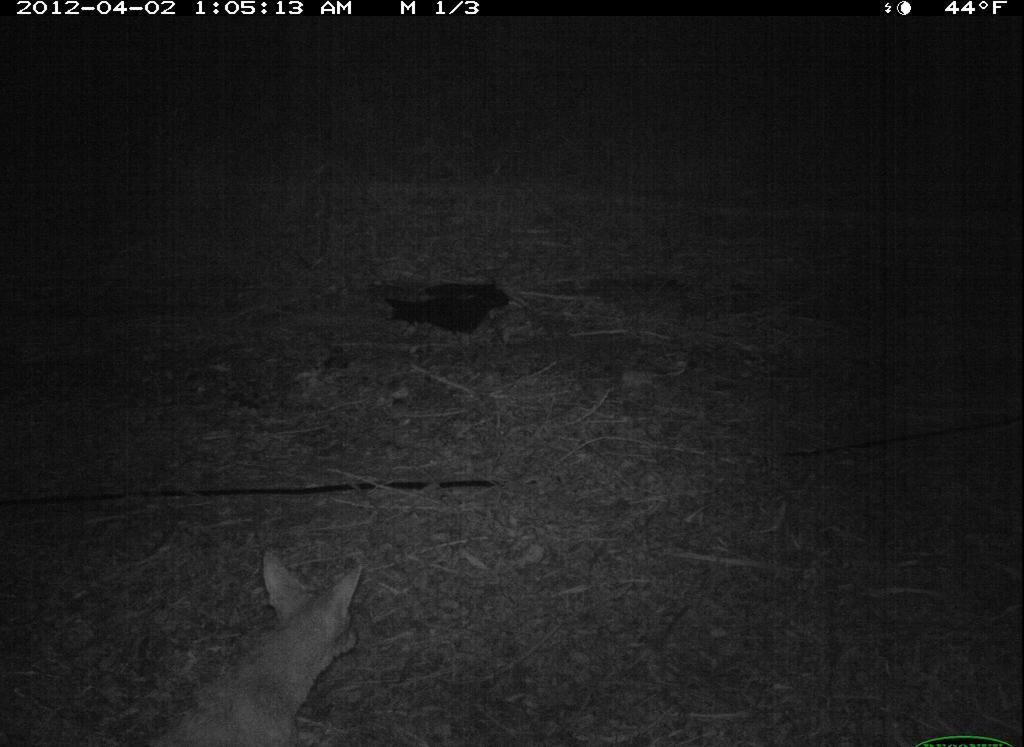coyote: (114, 545, 376, 747)
